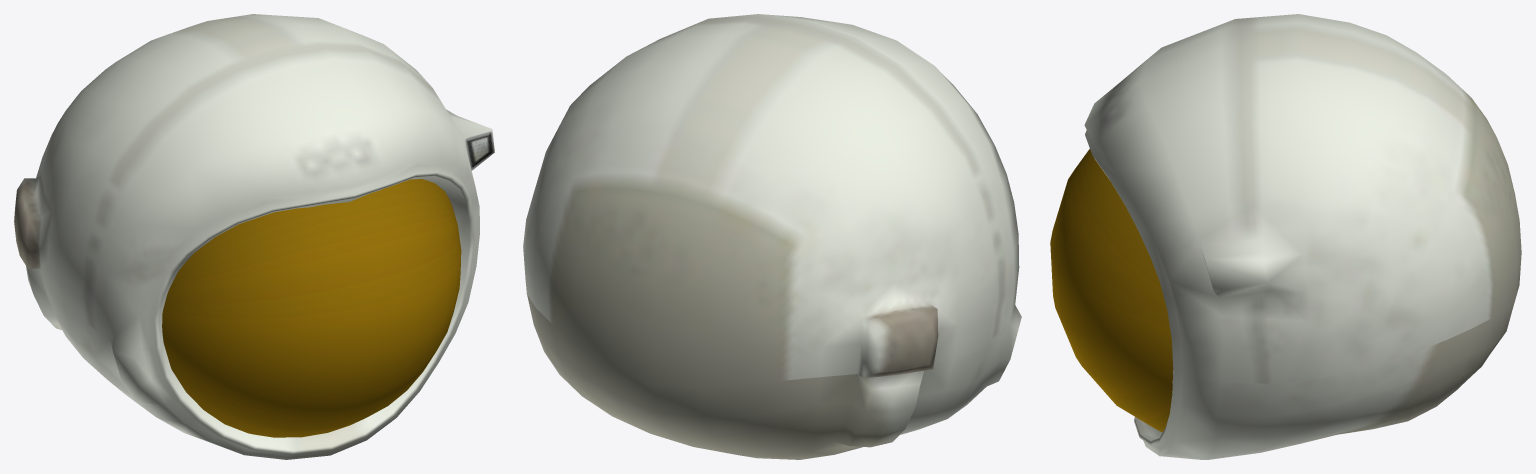
The model's file is head.obj.
3 renders of one model, left to right at view 1: azimuth 30°, elevation 25°; view 2: azimuth 150°, elevation 25°; view 3: azimuth 270°, elevation 25°, orthographic. The views are drawn at different scales.
Parts seen in each view (by area): view 1: polySurface7 Mesh, Mesh polySurface1; view 2: polySurface7 Mesh; view 3: polySurface7 Mesh, Mesh polySurface1.
Boxes of the visible parts, bbox=[...] form: polySurface7 Mesh: bbox=[14, 14, 494, 459]; Mesh polySurface1: bbox=[162, 179, 461, 437]; polySurface7 Mesh: bbox=[523, 14, 1021, 459]; polySurface7 Mesh: bbox=[1084, 14, 1521, 459]; Mesh polySurface1: bbox=[1050, 149, 1173, 432].
Bounding box in the file's own units: 0.8736 × 0.7863 × 0.8618.
Materials: 2 (2 with a texture image).
